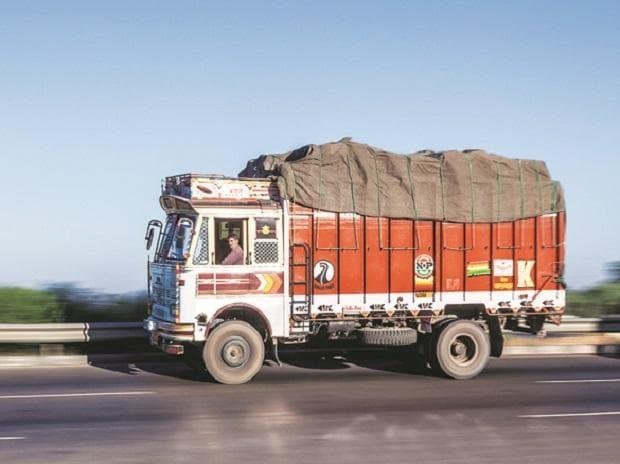truck: (145, 138, 568, 386)
